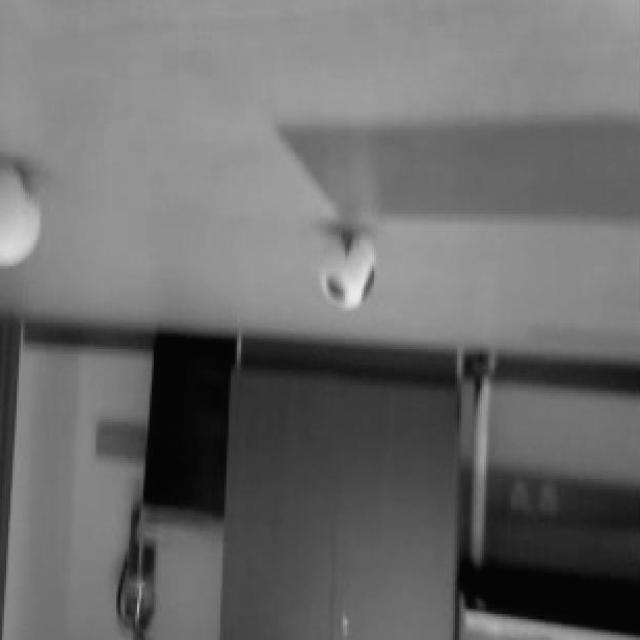ping-pong-ball: (318, 222, 382, 316), (0, 156, 44, 274)
